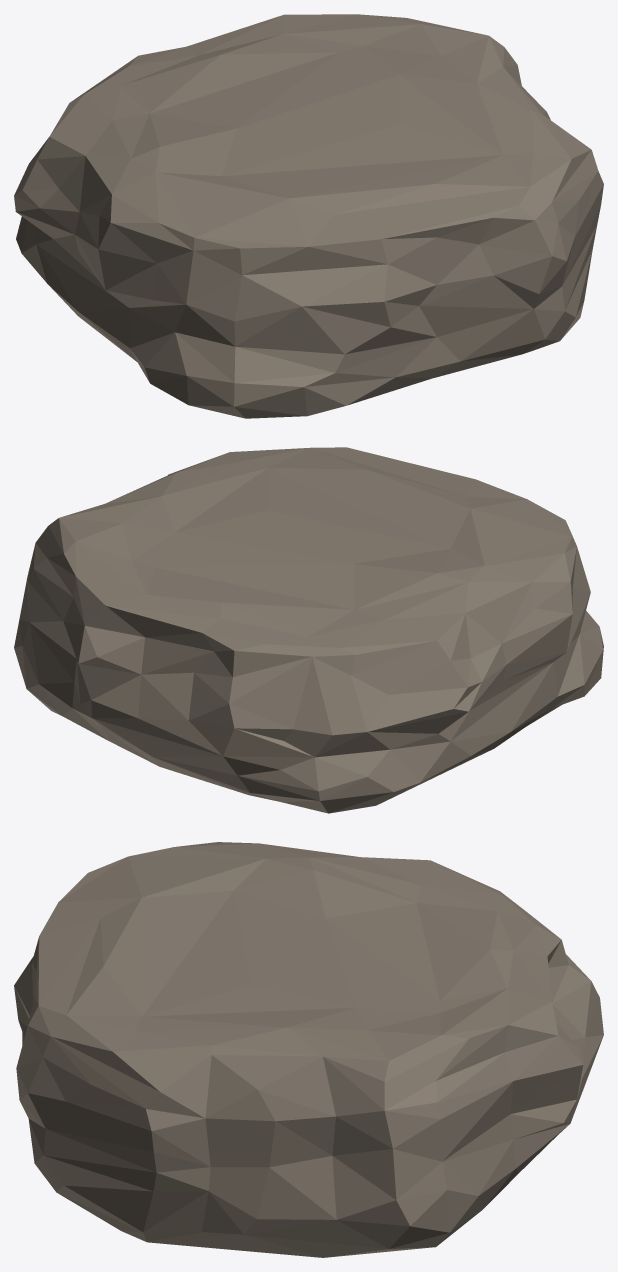
The model's file is SM_Env_Rock_Flat_01.fbx.
3 views of the same model, one above another, from view 1: azimuth 30°, elevation 25°; view 2: azimuth 150°, elevation 25°; view 3: azimuth 270°, elevation 25° (orthographic). The views are drawn at different scales.
Parts seen in each view (by area): view 1: SM_Env_Rock_Flat_01; view 2: SM_Env_Rock_Flat_01; view 3: SM_Env_Rock_Flat_01.
Boxes of the visible parts, <box> form: SM_Env_Rock_Flat_01: <box>14,14,603,418</box>; SM_Env_Rock_Flat_01: <box>14,447,603,813</box>; SM_Env_Rock_Flat_01: <box>14,842,603,1257</box>.
Size of the model in its own units: 936 by 342 by 903.
